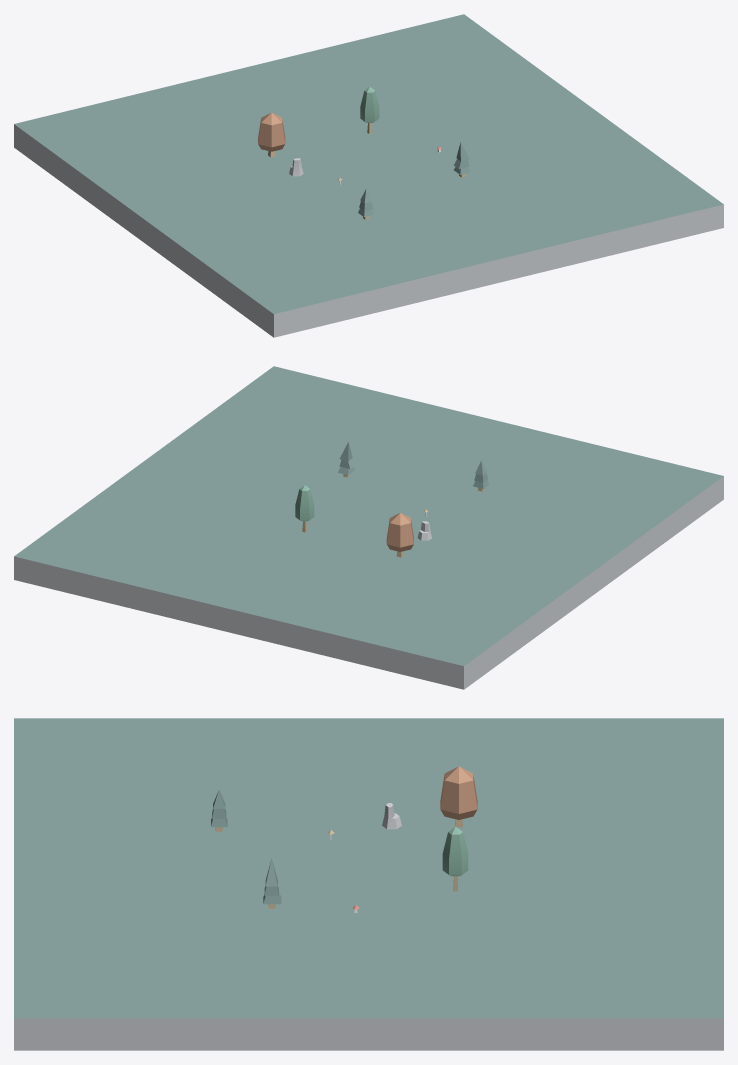
The model's file is map.glb.
3 views of the same model, one above another, from view 1: azimuth 30°, elevation 25°; view 2: azimuth 150°, elevation 25°; view 3: azimuth 270°, elevation 25° (orthographic). The views are drawn at different scales.
Visible parts, largest first — view 1: Plate_Grass_01.002, Large_Oak_Fall_01, Oak_Green_01; view 2: Plate_Grass_01.002, Large_Oak_Fall_01, Oak_Green_01; view 3: Plate_Grass_01.002, Large_Oak_Fall_01, Oak_Green_01, Tree_01.
Boxes of the visible parts, x1,y1,x2,y2 form: Plate_Grass_01.002: (14,14,723,337); Large_Oak_Fall_01: (258,112,285,157); Oak_Green_01: (360,87,379,133); Plate_Grass_01.002: (14,366,723,689); Large_Oak_Fall_01: (386,512,413,557); Oak_Green_01: (295,485,314,532); Plate_Grass_01.002: (14,718,723,1050); Large_Oak_Fall_01: (440,766,477,827); Oak_Green_01: (442,826,468,891); Tree_01: (263,858,281,908).
Size of the model in its own units: 50 by 7.43 by 50.
